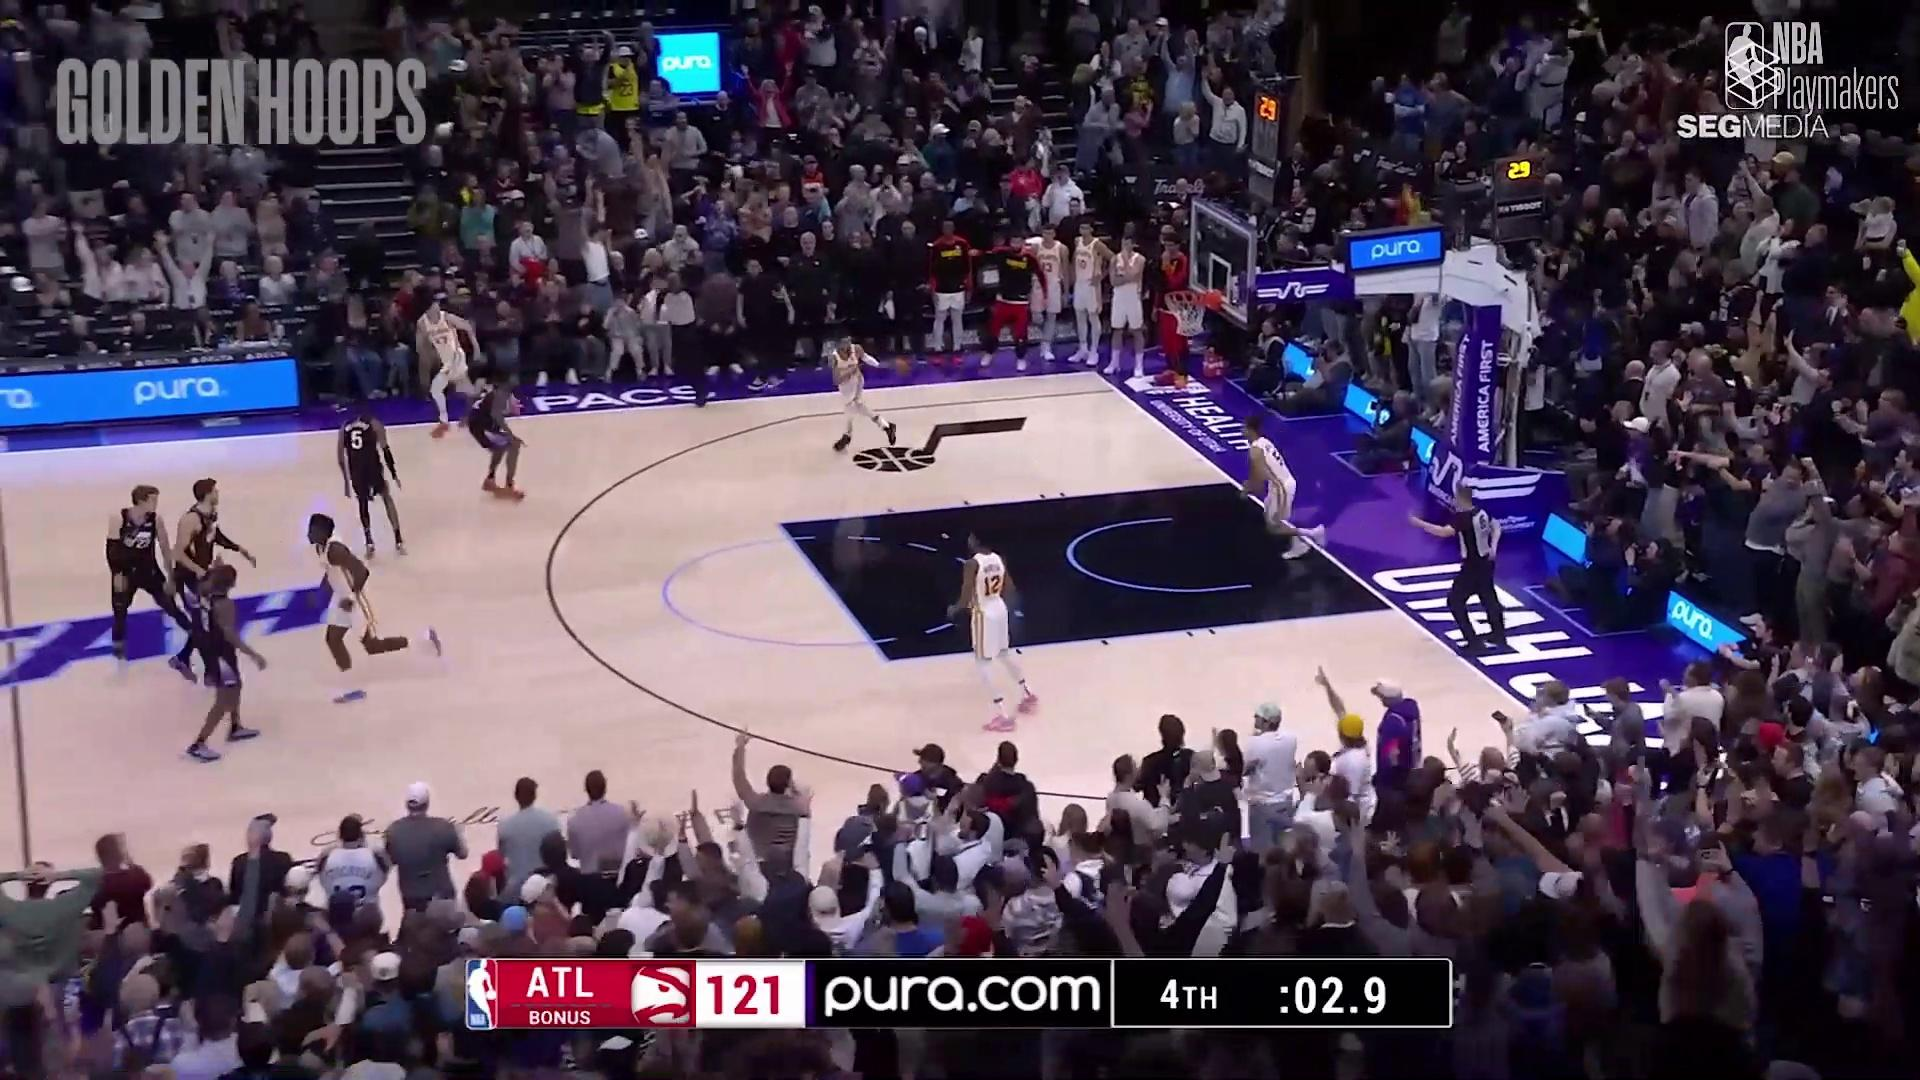hoop: (1164, 282, 1220, 339)
